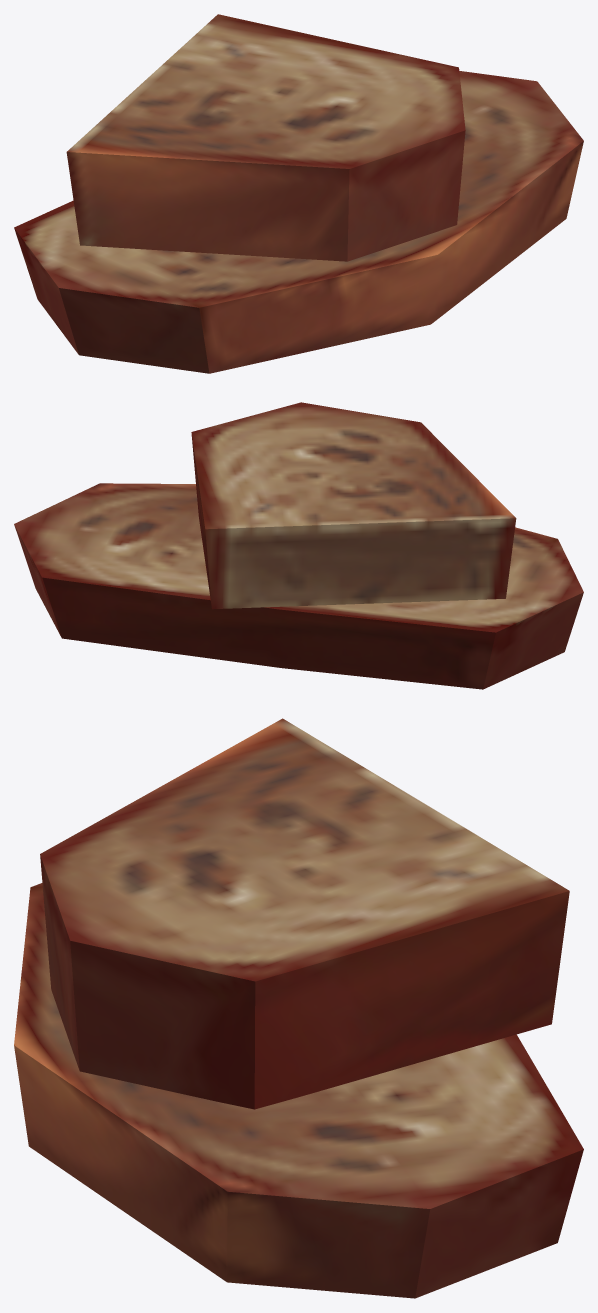
Rendered from bread_slices.fbx.
3 renders of one model, top to bottom at view 1: azimuth 30°, elevation 25°; view 2: azimuth 150°, elevation 25°; view 3: azimuth 270°, elevation 25°, orthographic. The views are drawn at different scales.
Visible parts, largest first — view 1: bread_slices; view 2: bread_slices; view 3: bread_slices.
Part boxes in pixels (x1,y1,x2,y2): bread_slices: (14,14,583,373); bread_slices: (14,402,583,689); bread_slices: (14,718,583,1298).
Bounding box in the file's own units: 30.25 × 8.88 × 18.87.
